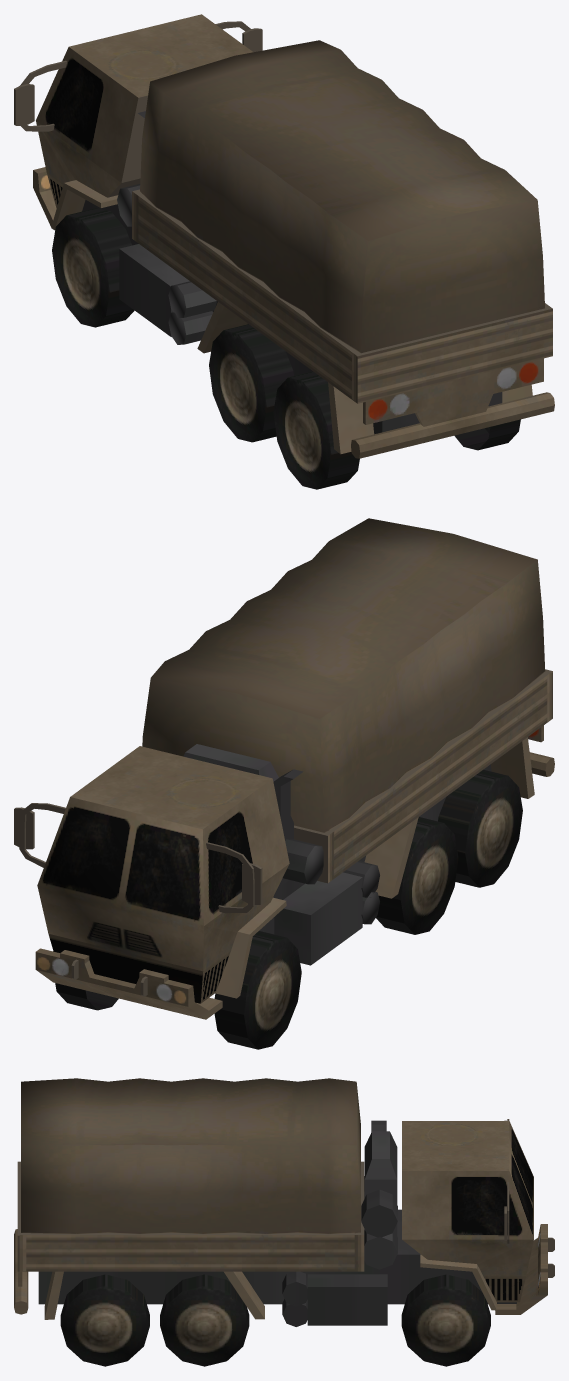
Rendered from USA_motorized.obj.
3 renders of one model, top to bottom at view 1: azimuth 30°, elevation 25°; view 2: azimuth 150°, elevation 25°; view 3: azimuth 270°, elevation 25°, orthographic. The views are drawn at different scales.
Parts seen in each view (by area): view 1: Plane; view 2: Plane; view 3: Plane.
Boxes of the visible parts, x1,y1,x2,y2 form: Plane: (14, 14, 554, 489); Plane: (14, 518, 554, 1049); Plane: (14, 1078, 554, 1366).
Size of the model in its own units: 2.08 by 2.33 by 5.12.
1 material, 1 textured.
